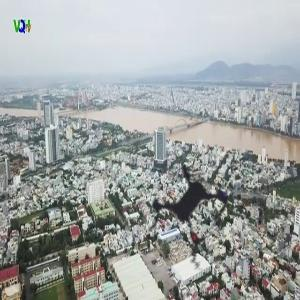drone: (95, 113, 279, 297)
